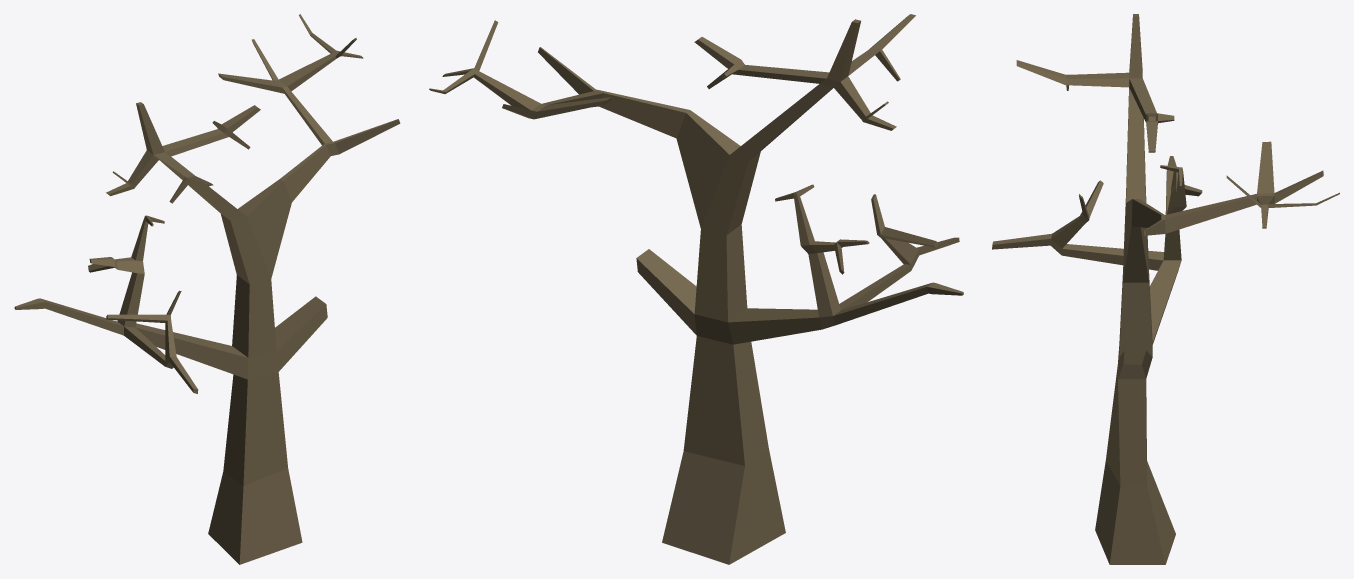
Rendered from Tree1.fbx.
The picture shows the model from 3 angles, left to right: view 1: azimuth 30°, elevation 25°; view 2: azimuth 150°, elevation 25°; view 3: azimuth 270°, elevation 25°; orthographic projection. The views are drawn at different scales.
Visible parts, largest first — view 1: Cube; view 2: Cube; view 3: Cube.
Boxes of the visible parts, x1,y1,x2,y2 form: Cube: (14,14,400,564); Cube: (429,14,963,564); Cube: (992,14,1339,564).
Bounding box in the file's own units: 1129 × 1280 × 850.
